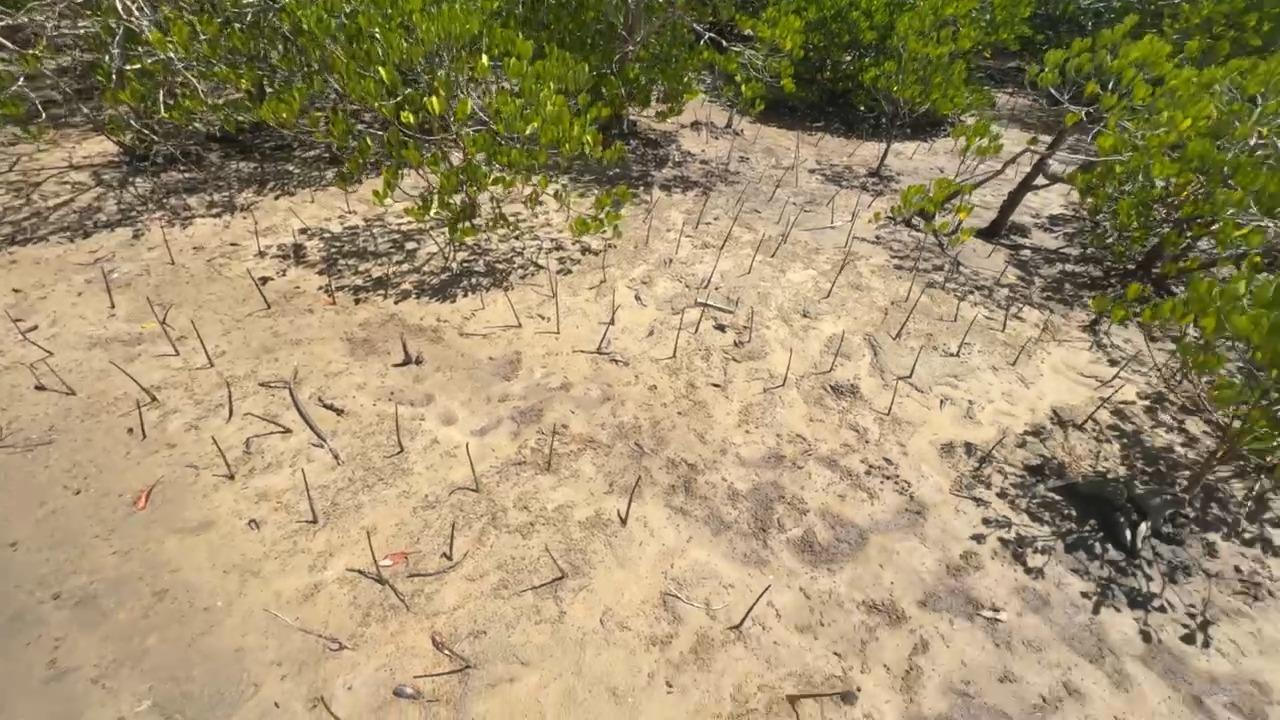Tree: (262, 608, 351, 651), (404, 193, 448, 261), (4, 309, 53, 356), (1077, 384, 1126, 429), (893, 282, 930, 341), (1092, 349, 1142, 390), (146, 296, 180, 356), (109, 360, 157, 401), (734, 584, 771, 628), (430, 632, 470, 668), (910, 219, 936, 273), (719, 200, 745, 249), (601, 223, 622, 283), (43, 359, 77, 395), (974, 435, 1007, 471), (190, 320, 214, 368), (596, 304, 620, 350), (242, 412, 293, 433), (246, 267, 271, 309), (366, 530, 385, 585), (211, 435, 234, 480), (956, 311, 979, 356), (11, 361, 46, 389), (769, 215, 791, 258), (301, 468, 318, 523), (334, 170, 355, 214), (703, 248, 724, 291), (827, 259, 850, 298), (624, 475, 641, 526), (783, 207, 804, 244), (465, 441, 480, 492), (828, 328, 845, 373), (748, 232, 766, 274), (694, 291, 712, 333), (671, 307, 686, 357), (767, 167, 788, 202), (843, 208, 861, 248), (904, 263, 922, 303), (504, 291, 523, 327), (545, 544, 565, 578), (100, 266, 115, 308), (997, 250, 1016, 282), (161, 226, 176, 266), (908, 344, 924, 379), (885, 376, 899, 416), (394, 401, 405, 451), (840, 234, 855, 270), (1011, 339, 1031, 366), (695, 194, 710, 229), (135, 398, 147, 440), (642, 195, 660, 223), (949, 124, 967, 152), (320, 695, 340, 720), (288, 206, 309, 229), (849, 190, 863, 222), (1025, 135, 1039, 166), (782, 347, 793, 386), (325, 267, 336, 304), (736, 99, 751, 126), (547, 422, 555, 471), (400, 333, 412, 365), (546, 252, 554, 297), (735, 182, 750, 206), (244, 197, 257, 224), (675, 221, 685, 255), (825, 187, 842, 207), (785, 691, 841, 697), (555, 277, 560, 334), (449, 521, 456, 560), (847, 142, 863, 158), (867, 191, 881, 209), (1001, 305, 1010, 333), (645, 213, 653, 244), (692, 107, 700, 137), (748, 305, 754, 342), (726, 136, 735, 160), (752, 123, 762, 144), (985, 242, 997, 259), (611, 287, 616, 325), (255, 224, 261, 254), (910, 143, 921, 159), (796, 131, 799, 188), (1014, 302, 1027, 315), (953, 298, 960, 322), (814, 134, 824, 148), (1014, 161, 1021, 179), (705, 114, 709, 145), (830, 198, 834, 225), (928, 140, 936, 153), (309, 185, 314, 203), (480, 292, 484, 309), (708, 104, 711, 121)
